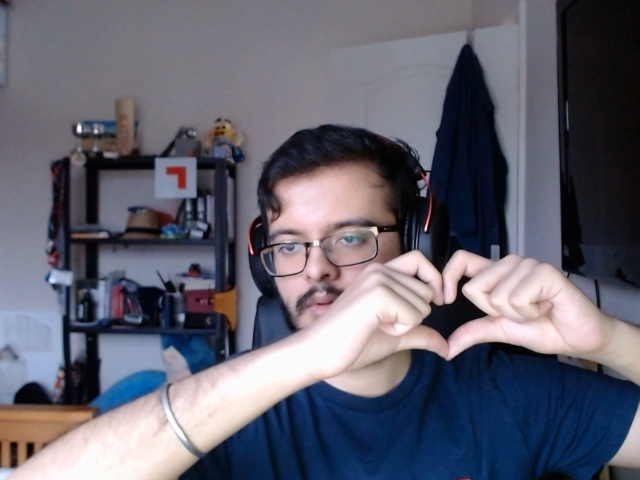Heart: (322, 246, 589, 386)
